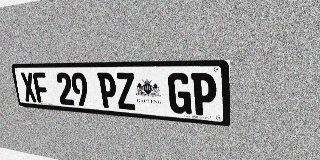2: (55, 72, 75, 105)
9: (70, 73, 90, 107)
F: (32, 72, 50, 103)
G: (167, 73, 192, 115)
P: (191, 73, 217, 117), (97, 73, 118, 109)
X: (20, 72, 37, 102)
Z: (115, 73, 137, 110)
